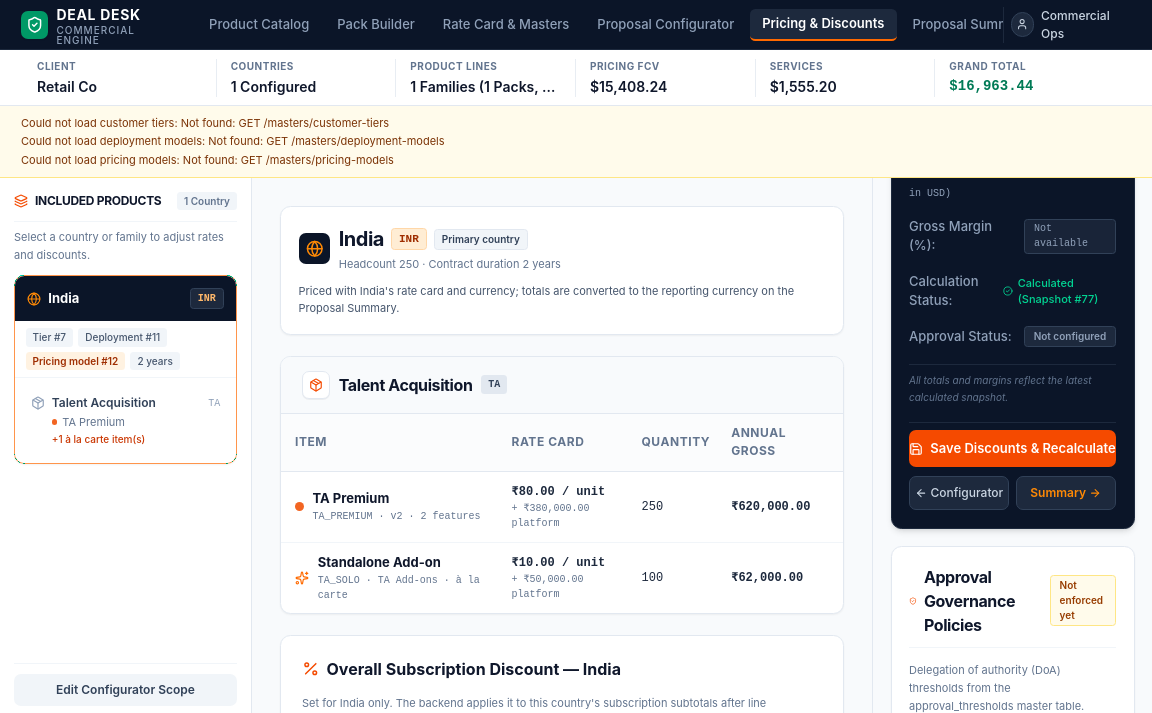
Test case: Page 5 — Pricing & Discounts › shows the backend error when recalculation is rejected
This screenshot has width=1152, height=713.
(page scrolled)
Step 1. Click the button "Save Discounts & Recalculate" → [1012, 449], box [909, 430, 1116, 467]
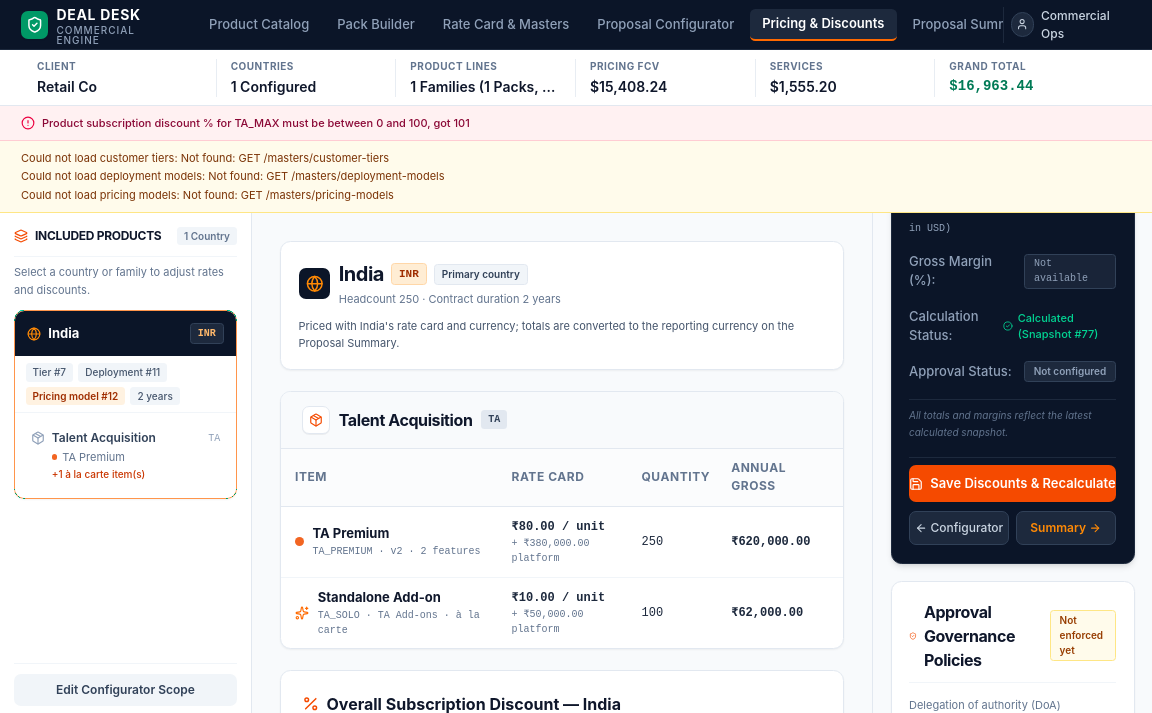
Expected: the text "must be between 0 and 100, got 101" is shown, [42, 116, 470, 130]
